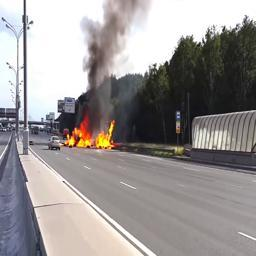fire: (65, 115, 115, 150)
